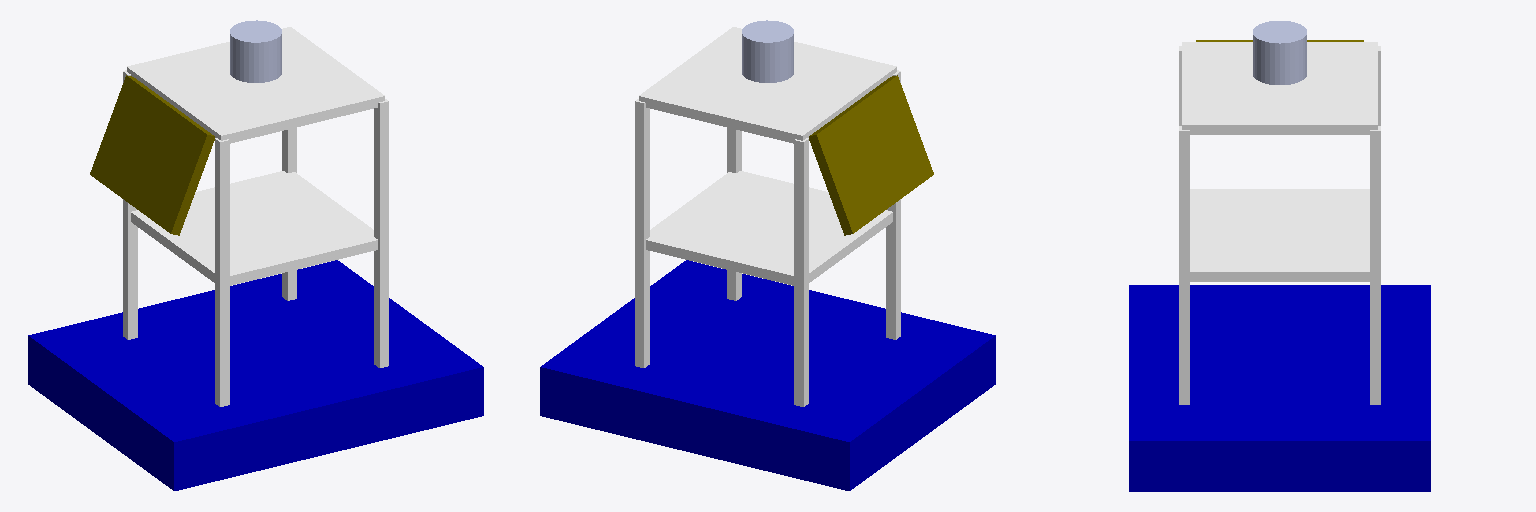
robot.urdf — mickx4:
<?xml version="1.0"?>
<robot name="mickx4">
  <link name="base_link">
     <visual>
      <geometry>
        <box size="0.01 .01 .01"/>
      </geometry>
      <material name="gree">
        <color rgba="0 0 .8 1"/>
      </material>
    </visual>
    <origin rpy="0 0 0" xyz="1 0 0.125"/>
 </link>

 
 <link name="left_front_wheel">
    <visual>
      <geometry>
	<!--cylinder length=".06" radius="0.125"/-->
        <mesh filename="package://mick_description/urdf/mesh/wheel.stl" scale="0.001 0.001 0.001"/>
      </geometry>
      <material name="red">
        <color rgba="1 0 0 1"/>
      </material>
    </visual>
  </link>
  <joint name="left_front_wheel_joint" type="continuous">
    <axis xyz="0 0 1"/>
    <parent link="base_link"/>
    <child link="left_front_wheel"/>
    <origin rpy="1.57075 0 0" xyz="0.1 0.285 0"/>
    <limit effort="100" velocity="100"/>
    <joint_properties damping="0.0" friction="0.0"/>
  </joint>

 <link name="right_front_wheel">
    <visual>
      <geometry>
        <mesh filename="package://mick_description/urdf/mesh/wheel.stl" scale="0.001 0.001 0.001"/>
      </geometry>
      <material name="red">
        <color rgba="1 0 0 1"/>
      </material>
    </visual>
  </link>

  <joint name="right_front_wheel_joint" type="continuous">
    <axis xyz="0 0 1"/>
    <parent link="base_link"/>
    <child link="right_front_wheel"/>
    <origin rpy="1.57075 0 0" xyz="0.1 -0.37 0"/>
    <limit effort="100" velocity="100"/>
    <joint_properties damping="0.0" friction="0.0"/>
  </joint>

  <link name="right_back_wheel">
    <visual>
      <geometry>
        <mesh filename="package://mick_description/urdf/mesh/wheel.stl" scale="0.001 0.001 0.001"/>
      </geometry>
      <material name="red">
        <color rgba="1 0 0 1"/>
      </material>
    </visual>
  </link>

  <joint name="right_back_wheel_joint" type="continuous">
    <axis xyz="0 0 1"/>
    <parent link="base_link"/>
    <child link="right_back_wheel"/>
    <origin rpy="1.57075 0 0" xyz="-0.35 -0.37 0"/>
    <limit effort="100" velocity="100"/>
    <joint_properties damping="0.0" friction="0.0"/>
 </joint>

  <link name="left_back_wheel">
    <visual>
      <geometry>
        <mesh filename="package://mick_description/urdf/mesh/wheel.stl" scale="0.001 0.001 0.001"/>
      </geometry>
      <material name="red">
        <color rgba="1 0 0 1"/>
      </material>
    </visual>
  </link>

  <joint name="left_back_wheel_joint" type="continuous">
    <axis xyz="0 0 1"/>
    <parent link="base_link"/>
    <child link="left_back_wheel"/>
    <origin rpy="1.57075 0 0" xyz="-0.35 0.285 0"/>
    <limit effort="100" velocity="100"/>
    <joint_properties damping="0.0" friction="0.0"/>
  </joint>

  <link name="camera">
     <visual>
      <geometry>
	 <!-- box size=".03 .15 .03"/-->
         <mesh filename="package://mick_description/urdf/mesh/ZED.stl" scale="0.001 0.001 0.001"/>
      </geometry>
      <material name="">
        <color rgba="0 0 0 1" />
      </material>
    </visual>
  </link>

  <joint name="camera" type="fixed">
    <parent link="base_link"/>
    <child link="camera"/>
    <origin xyz="0.17 0.0 0.75"/>
  </joint>


  <link name="rslidar">
     <visual>
      <geometry>
          <!--mesh filename="package://mick_description/urdf/mesh/RS-LiDAR-16.stl" scale="0.001 0.001 0.001">
          </mesh-->
         <cylinder length=".0826" radius="0.0487"/>
      </geometry>
      <material name="">
        <color rgba="0.792156862745098 0.819607843137255 0.933333333333333 1" />
      </material>
    </visual>
  </link>

  <joint name="laser_joint" type="continuous">
    <parent link="base_link"/>
    <child link="rslidar"/>
    <origin xyz="0.0 0.0 0.80" rpy="0 0 0"/>
  </joint>


  <link name="body">
     <visual>
      <geometry>
        <box size="0.66 .54 .1"/>
      </geometry>
      <material name="gree">
        <color rgba="0 0 .8 1"/>
      </material>
    </visual>
 </link>

  <joint name="body" type="continuous">
    <axis xyz="0 0 1"/>
    <parent link="base_link"/>
    <child link="body"/>
    <origin rpy="0 0 0" xyz="0.0 0.0 0.14"/>
    <limit effort="100" velocity="100"/>
    <joint_properties damping="0.0" friction="0.0"/>
  </joint>
 
  <link name="part1">
    <visual>
      <geometry>
        <box size=".02 .02 .54"/>
      </geometry>
      <material name="white">
          <color rgba="1 1 1 1"/>
      </material>
    </visual>
  </link>

  <joint name="part1_joint" type="continuous">
    <parent link="body"/>
    <child link="part1"/>
    <origin xyz="0.17 0.17 0.32"/>
  </joint>

  <link name="part2">
    <visual>
      <geometry>
        <box size=".02 .02 .54"/>
      </geometry>
      <material name="white">
          <color rgba="1 1 1 1"/>
      </material>
    </visual>
  </link>

  <joint name="part2_joint" type="continuous">
    <parent link="body"/>
    <child link="part2"/>
    <origin xyz="0.17 -0.17 0.32"/>
  </joint>

  <link name="part3">
    <visual>
      <geometry>
        <box size=".02 .02 .54"/>
      </geometry>
      <material name="white">
          <color rgba="1 1 1 1"/>
      </material>
    </visual>
  </link>

  <joint name="part3_joint" type="continuous">
    <parent link="body"/>
    <child link="part3"/>
    <origin xyz="-0.17 -0.17 0.32"/>
  </joint>

  <link name="part4">
    <visual>
      <geometry>
        <box size=".02 .02 .54"/>
      </geometry>
      <material name="white">
          <color rgba="1 1 1 1"/>
      </material>
    </visual>
  </link>

  <joint name="part4_joint" type="continuous">
    <parent link="body"/>
    <child link="part4"/>
    <origin xyz="-0.17 0.17 0.32"/>
  </joint>

 
  <link name="part5">
    <visual>
      <geometry>
        <box size=".35 .35 .02"/>
      </geometry>
      <material name="white">
          <color rgba="1 1 1 1"/>
      </material>
    </visual>
  </link>

  <joint name="part5_joint" type="fixed">
    <parent link="body"/>
    <child link="part5"/>
    <origin xyz="0 0 0.59"/>
  </joint>

  <link name="part6">
    <visual>
      <geometry>
        <box size=".35 .35 .02"/>
      </geometry>
      <material name="white">
          <color rgba="1 1 1 1"/>
      </material>
    </visual>
  </link>

  <joint name="part6_joint" type="fixed">
    <parent link="body"/>
    <child link="part6"/>
    <origin xyz="0 0 0.30"/>
  </joint>

  <!-- LED screen -->
  <link name="part7">
    <visual>
      <geometry>
        <box size=".02 .30 .20"/>
      </geometry>
      <material name="">
          <color rgba="0.5 0.45 0 1"/>
      </material>
    </visual>
  </link>
  
  <joint name="part7_joint" type="fixed">
    <parent link="body"/>
    <child link="part7"/>
    <origin rpy= "0 0.4 0" xyz="-0.22 0 0.50"/>
  </joint>
</robot>

--- Facts derived from the render (not from the file) ---
Views: 3 orthographic renders of the robot side by side, from view 1: azimuth 30°, elevation 25°; view 2: azimuth 150°, elevation 25°; view 3: azimuth 270°, elevation 25°.
Model mickx4 with 15 links and 14 joints (10 continuous, 4 fixed), rooted at base_link, posed every joint at zero.
Links seen in each view (by area): view 1: body, part5, part6, part7, part3, part2, rslidar, part4, part1; view 2: body, part5, part6, part7, part4, part1, rslidar, part3, part2; view 3: body, part6, part5, rslidar, part1, part2.
Boxes of the visible links, x1,y1,x2,y2 form: body: (28,260,483,490); part5: (127,27,384,143); part6: (131,171,377,285); part7: (90,75,214,235); part3: (215,138,229,406); part2: (374,99,388,367); rslidar: (230,20,281,82); part4: (123,70,137,339); part1: (282,127,296,300); body: (540,260,995,490); part5: (639,27,896,143); part6: (646,171,892,285); part7: (809,75,933,235); part4: (794,138,808,406); part1: (635,99,649,367); rslidar: (742,20,793,82); part3: (886,70,900,339); part2: (727,127,741,300); body: (1129,285,1430,491); part6: (1190,189,1369,281); part5: (1182,42,1377,134); rslidar: (1253,21,1306,84); part1: (1370,126,1380,404); part2: (1179,126,1189,404).
Size in the robot's own frame: 0.66 by 0.54 by 0.8463 metres.
0 mesh visuals loaded from 2 distinct referenced files (none loaded); not drawn: 5 (reference not matched to a file when rendering).
